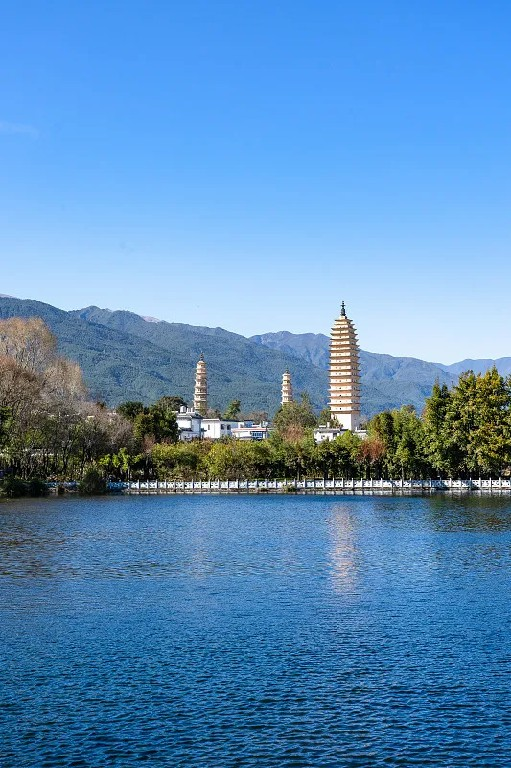ThreePagoda: (326, 301, 363, 430)
